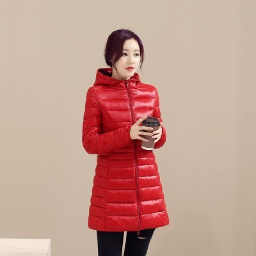face: (102, 25, 157, 93)
